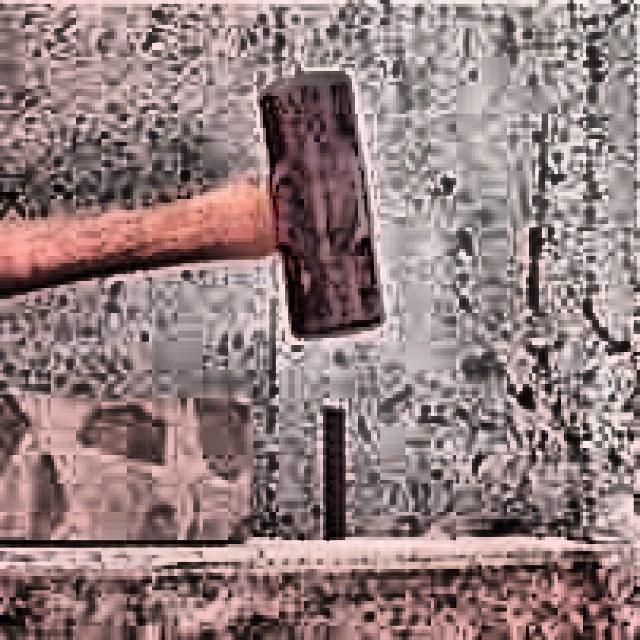hammer: (0, 69, 387, 338)
